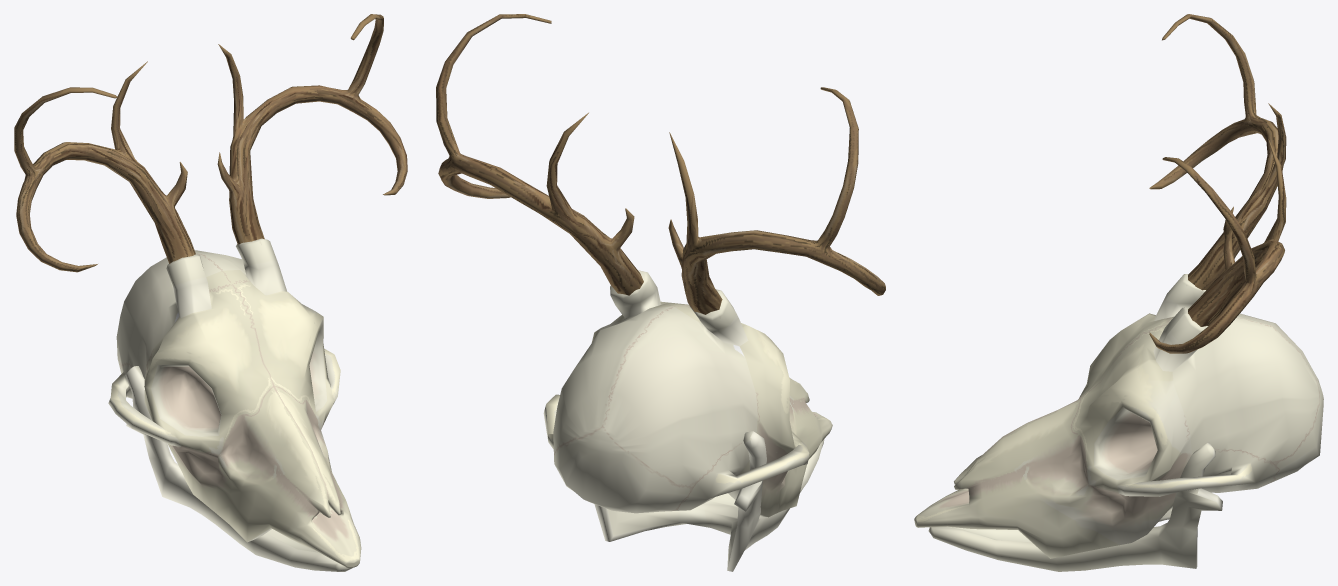
The picture shows the model from 3 angles, left to right: view 1: azimuth 30°, elevation 25°; view 2: azimuth 150°, elevation 25°; view 3: azimuth 270°, elevation 25°; orthographic projection. The views are drawn at different scales.
Parts seen in each view (by area): view 1: head; view 2: head; view 3: head.
Boxes of the visible parts, x1,y1,x2,y2 form: head: [14, 14, 407, 571]; head: [436, 14, 885, 571]; head: [914, 14, 1323, 571].
Bounding box in the file's own units: 0.7867 × 0.9021 × 0.7096.
1 material, 1 textured.
